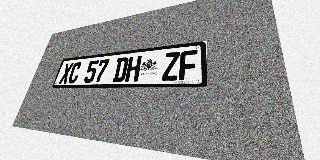5: (83, 60, 99, 83)
7: (93, 59, 110, 83)
C: (67, 62, 82, 84)
D: (112, 57, 129, 82)
F: (179, 50, 197, 80)
H: (125, 55, 142, 82)
X: (58, 63, 74, 84)
Z: (162, 51, 180, 81)
